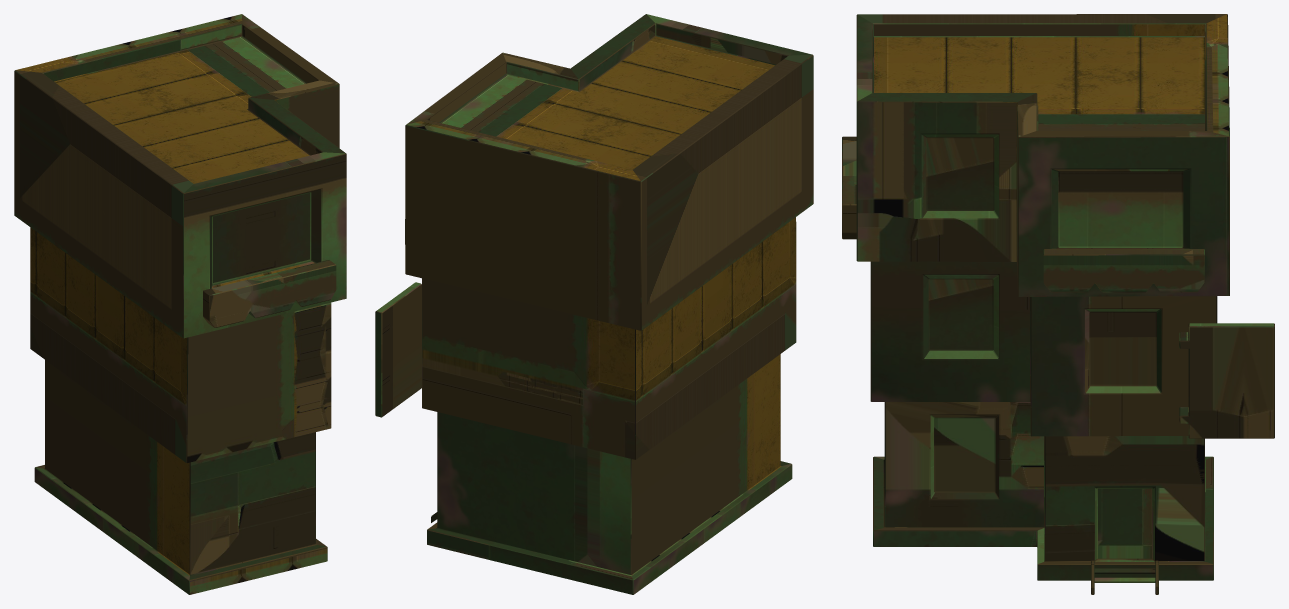
The model's file is home01.fbx.
3 views of the same model, side by side, from view 1: azimuth 30°, elevation 25°; view 2: azimuth 150°, elevation 25°; view 3: azimuth 270°, elevation 25° (orthographic). The views are drawn at different scales.
Visible parts, largest first — view 1: home_01; view 2: home_01; view 3: home_01.
Boxes of the visible parts, x1,y1,x2,y2 form: home_01: (14, 14, 346, 594); home_01: (375, 14, 813, 594); home_01: (842, 14, 1274, 594).
Size of the model in its own units: 381 by 626 by 540.
